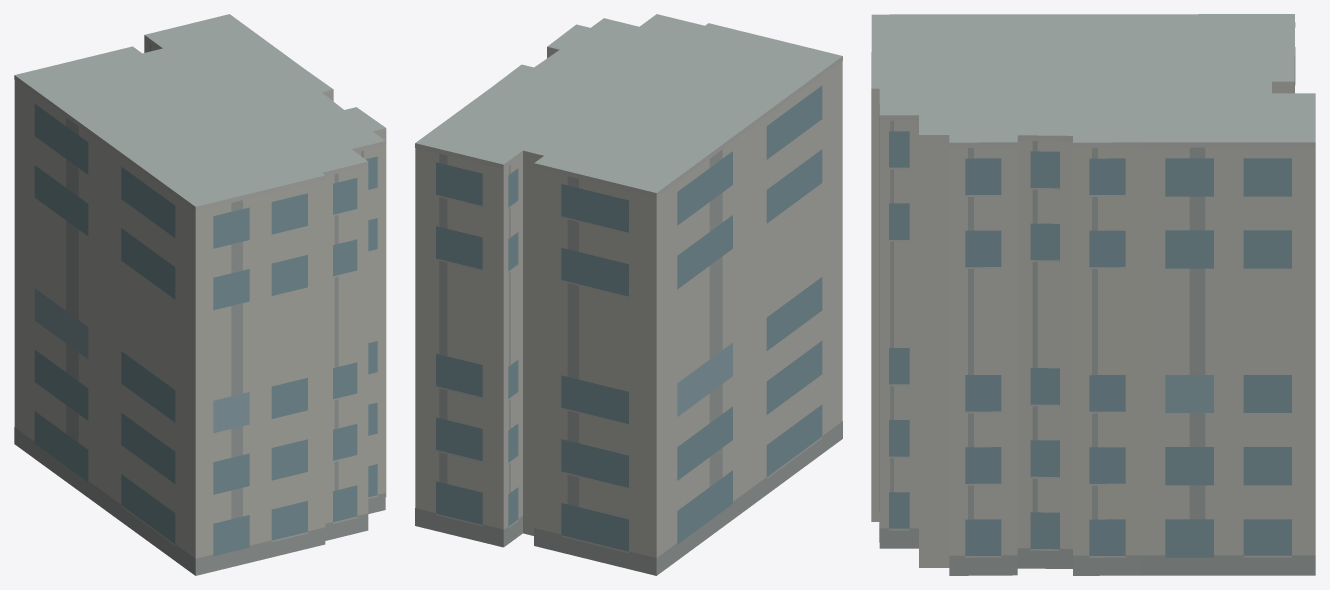
File: survey-upis-32820102.glb
3 renders of one model, left to right at view 1: azimuth 30°, elevation 25°; view 2: azimuth 150°, elevation 25°; view 3: azimuth 270°, elevation 25°, orthographic. The views are drawn at different scales.
Visible parts, largest first — view 1: survey-upis-32820102.tmp; view 2: survey-upis-32820102.tmp; view 3: survey-upis-32820102.tmp.
Part boxes in pixels (x1,y1,x2,y2): survey-upis-32820102.tmp: (14,14,386,575); survey-upis-32820102.tmp: (415,14,842,575); survey-upis-32820102.tmp: (871,14,1315,575).
Size of the model in its own units: 12.37 by 19.4 by 18.06.
